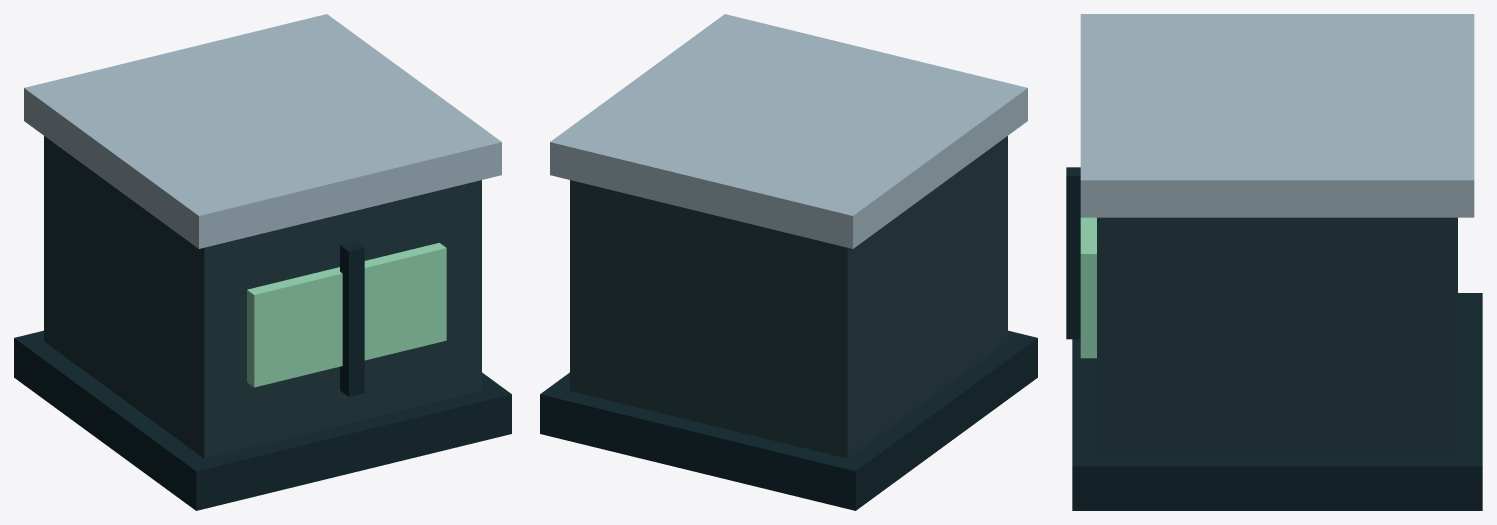
Rendered from wall-block.glb.
3 views of the same model, side by side, from view 1: azimuth 30°, elevation 25°; view 2: azimuth 150°, elevation 25°; view 3: azimuth 270°, elevation 25° (orthographic). The views are drawn at different scales.
Parts seen in each view (by area): view 1: wall, cap, foot, front, seam; view 2: wall, cap, foot; view 3: wall, cap, foot, seam, front.
Part boxes in pixels (x1,y1,x2,y2): wall: (44,136,481,458); cap: (24,14,501,248); foot: (14,330,511,510); front: (247,242,446,387); seam: (340,241,364,396); wall: (570,136,1007,458); cap: (550,14,1027,248); foot: (540,330,1037,510); wall: (1097,217,1457,455); cap: (1080,14,1474,217); foot: (1072,293,1482,510); seam: (1066,167,1080,339); front: (1080,217,1096,358).
Bounding box in the file's own units: 1 × 0.88 × 1.02.
